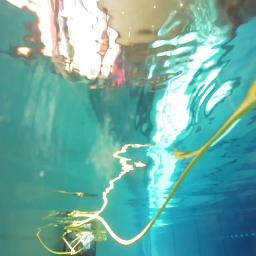back: (64, 221, 99, 256)
